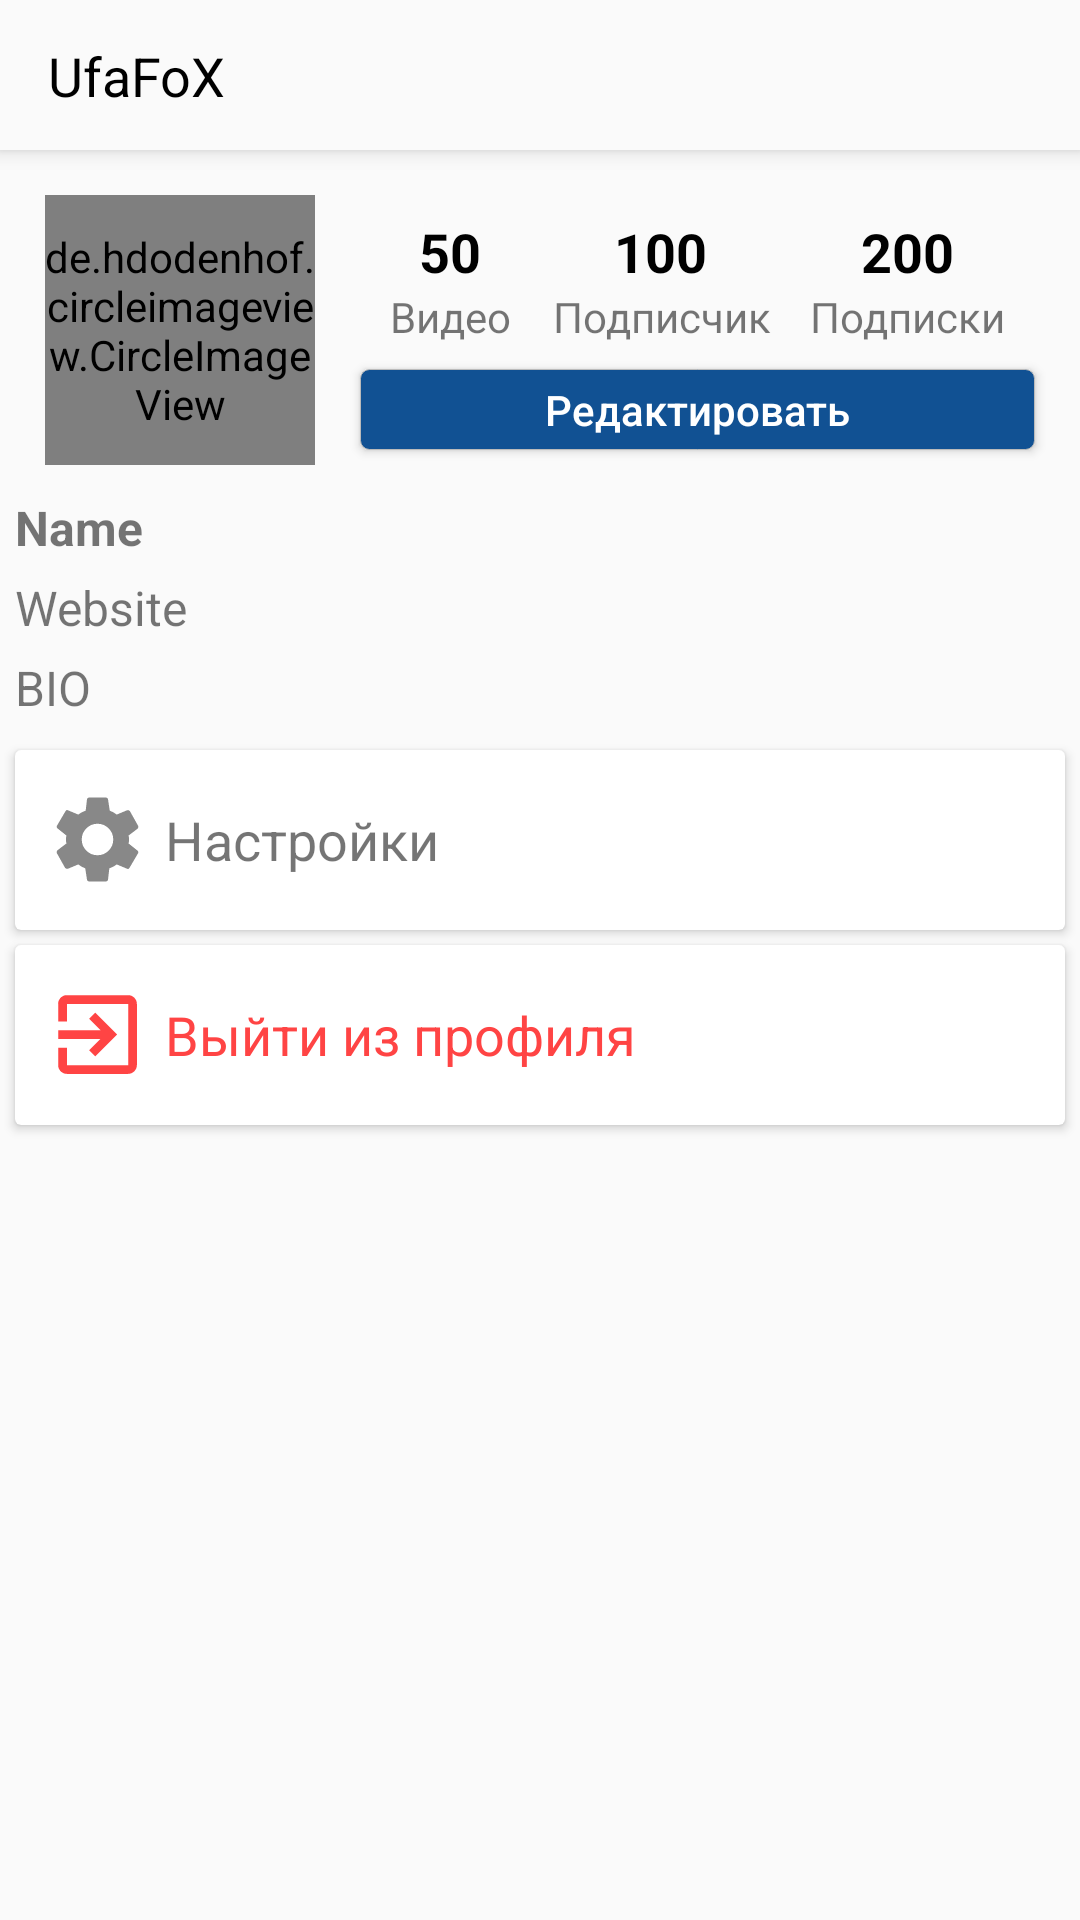

Where to tap for icons on this 1080x1920 app screen, as (x=x, y=y):
exit to app: (x=97, y=1034)
settings: (x=97, y=839)
